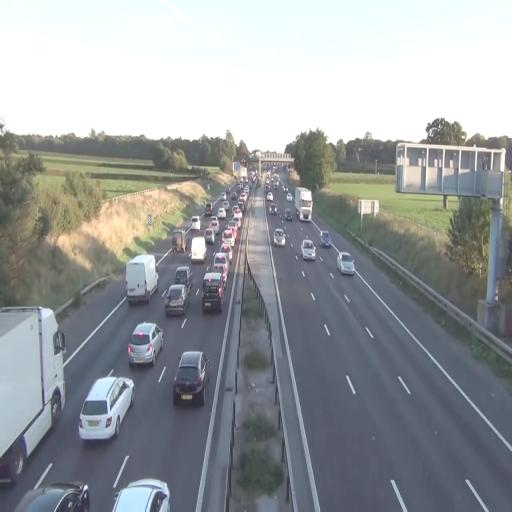vehicle: (0, 305, 66, 488), (78, 374, 134, 440), (13, 469, 90, 511), (13, 483, 92, 512), (112, 477, 170, 512), (172, 350, 208, 406), (126, 253, 158, 307), (128, 322, 163, 366), (201, 270, 224, 314), (163, 283, 189, 319), (296, 187, 312, 221), (338, 252, 355, 274), (302, 237, 316, 261), (272, 227, 288, 247), (284, 205, 297, 222), (320, 230, 330, 248)
